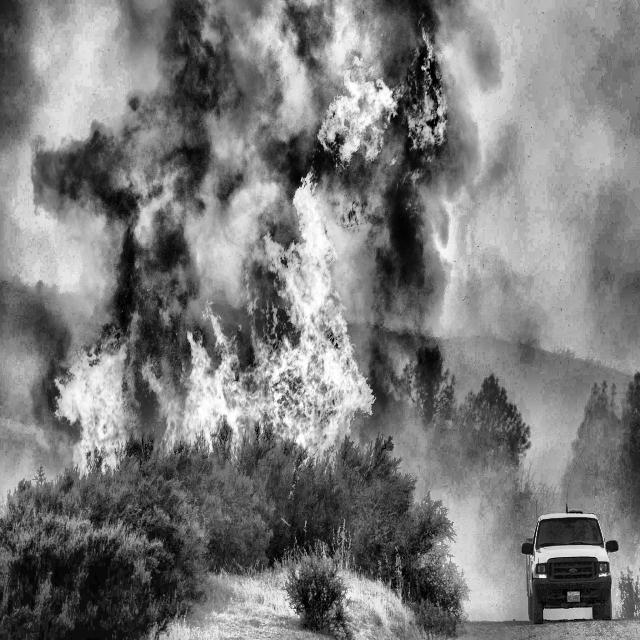fire: (24, 216, 391, 495), (287, 15, 493, 242)
